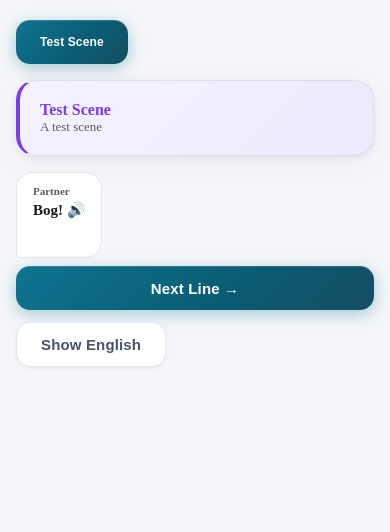
Test: RoleplayScreen — interactive scripted role-play › hides the model answer on the learner's turn and reveals it on demand
The width and height of the screenshot is (390, 532).
Step 1. Click the button "Next Line →" → {"x": 195, "y": 288}, box x1=16 y1=266 x2=374 y2=310
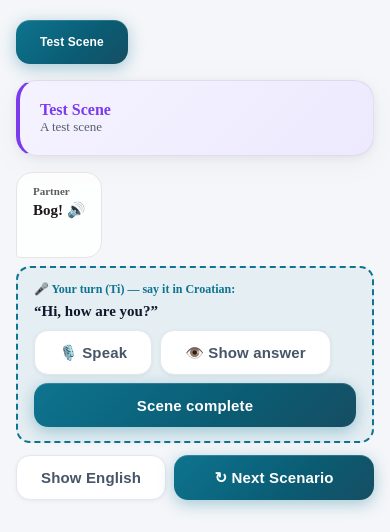
Expected: the text "“Hi, how are you?”" is shown, x1=34 y1=303 x2=158 y2=319
Step 2. Click the button with test id "roleplay-reveal" → {"x": 245, "y": 352}, box x1=160 y1=330 x2=331 y2=375
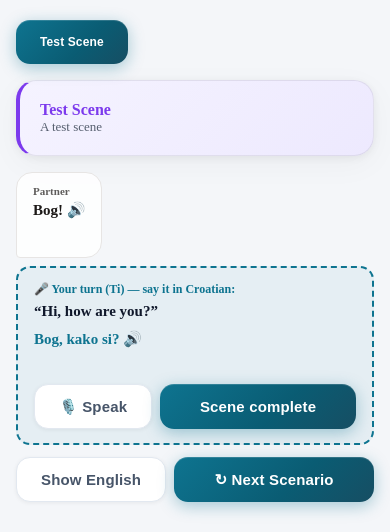
Expected: the button with test id "roleplay-answer" shows "Bog, kako si?", x1=34 y1=331 x2=142 y2=347
